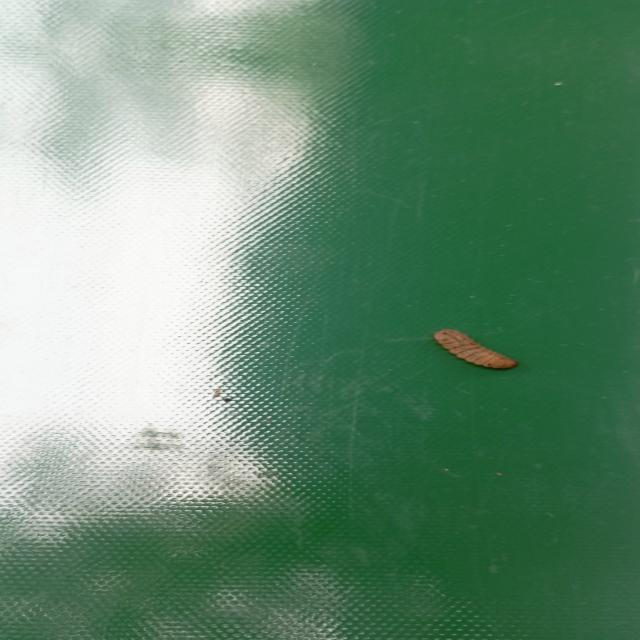Maggot: (431, 329, 519, 373)
